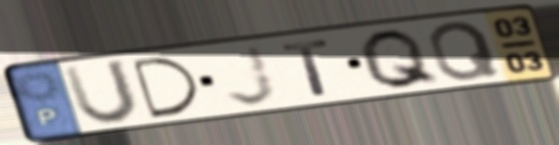D: (127, 54, 205, 121)
J: (223, 42, 281, 108)
Q: (356, 26, 445, 92), (426, 19, 504, 84)
T: (277, 36, 334, 98)
U: (59, 56, 144, 127)
